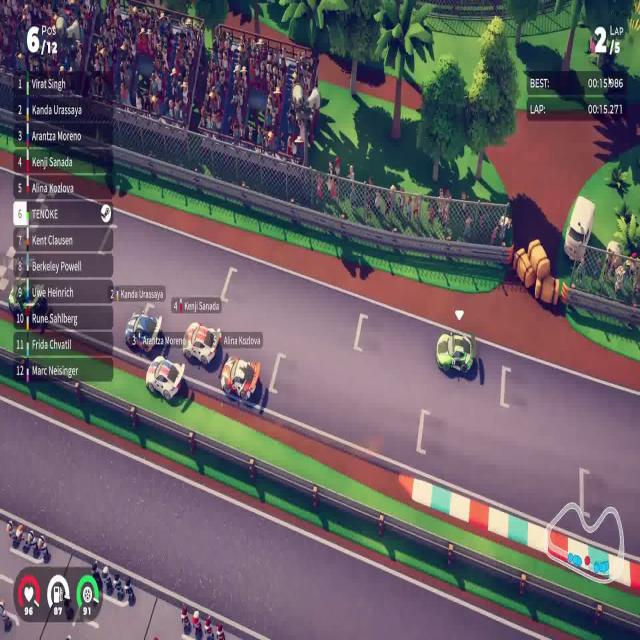car: (124, 304, 164, 354), (220, 354, 261, 402), (434, 329, 474, 376), (145, 354, 185, 401), (182, 320, 222, 366)
